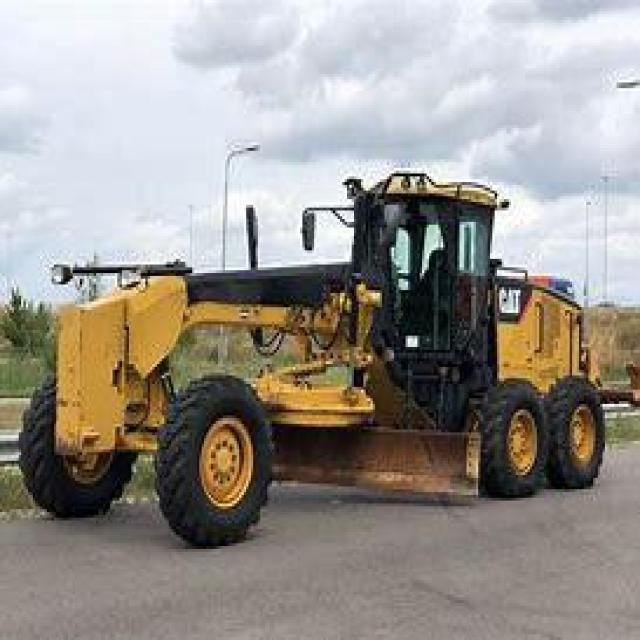buldozerpayloadergrader: (16, 151, 628, 566)
